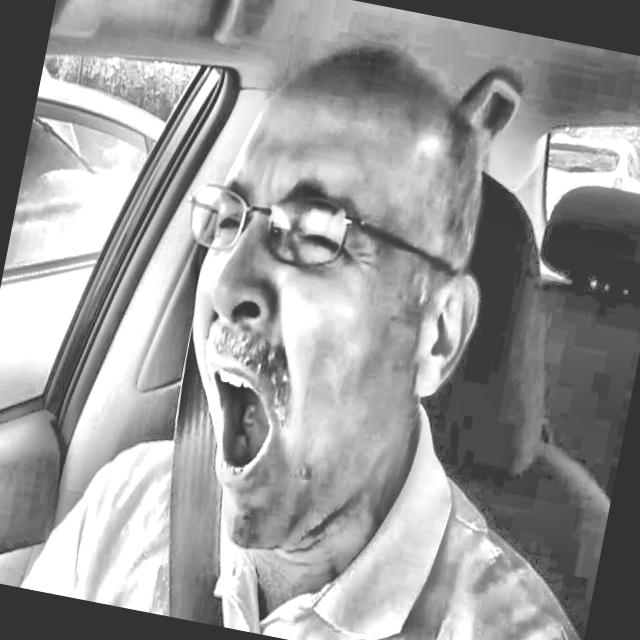closed_eyes: (275, 211, 367, 279), (192, 197, 256, 255)
open_mouth: (181, 343, 299, 507)
